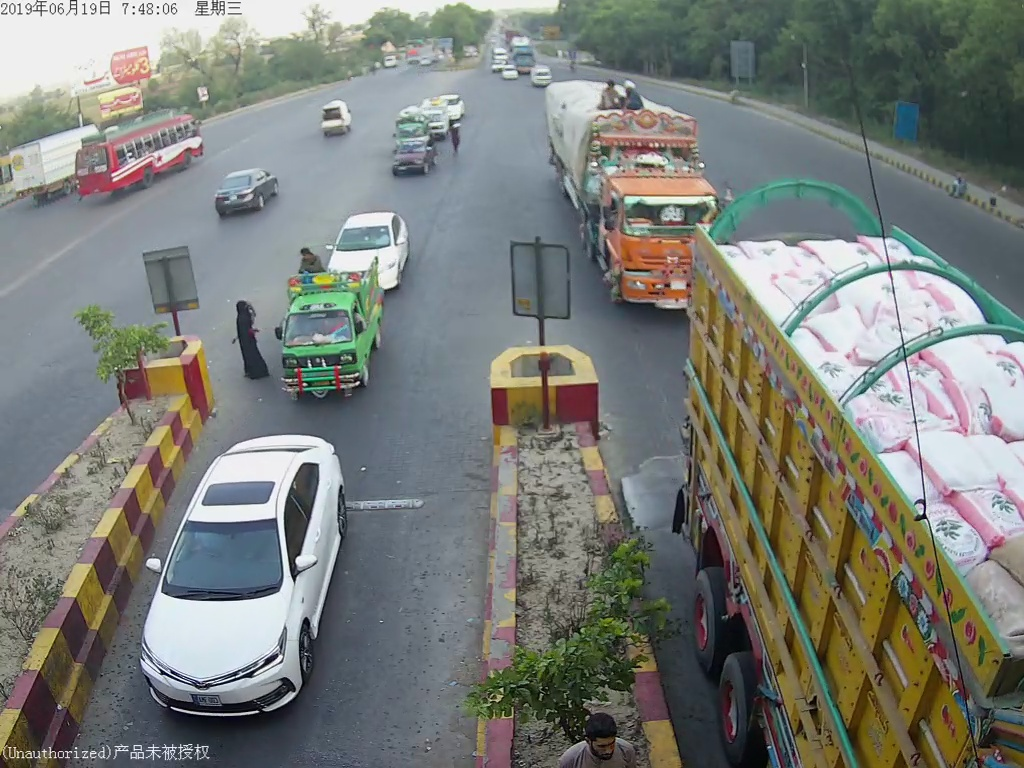Cat-1: (138, 430, 345, 718), (274, 267, 386, 390), (323, 208, 411, 291)
Cat-5: (550, 77, 717, 312)
